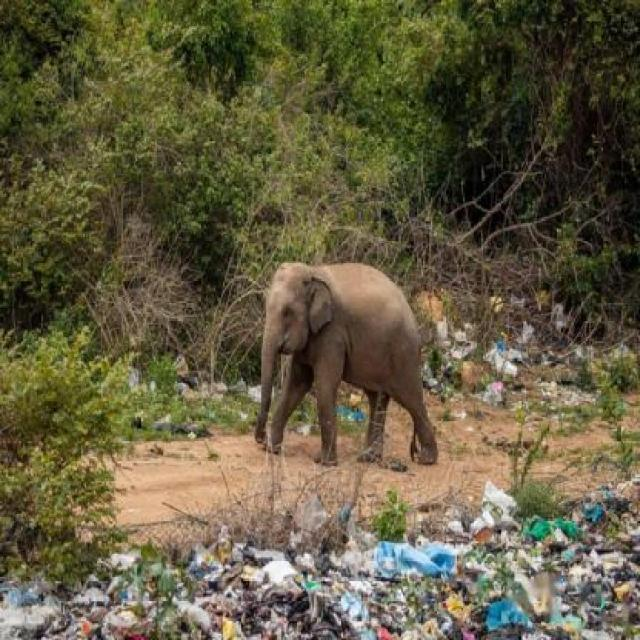garbage: (189, 523, 640, 639), (423, 292, 628, 424), (122, 326, 256, 457), (1, 553, 196, 640)
